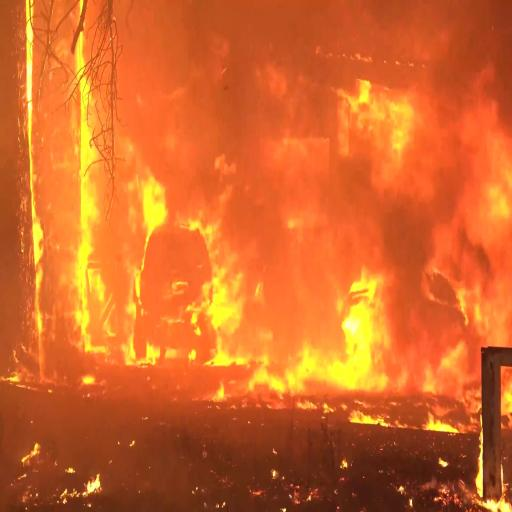fire: (67, 19, 103, 348), (184, 229, 247, 359), (338, 64, 416, 164), (326, 274, 390, 392)
smoke: (442, 0, 512, 95)
